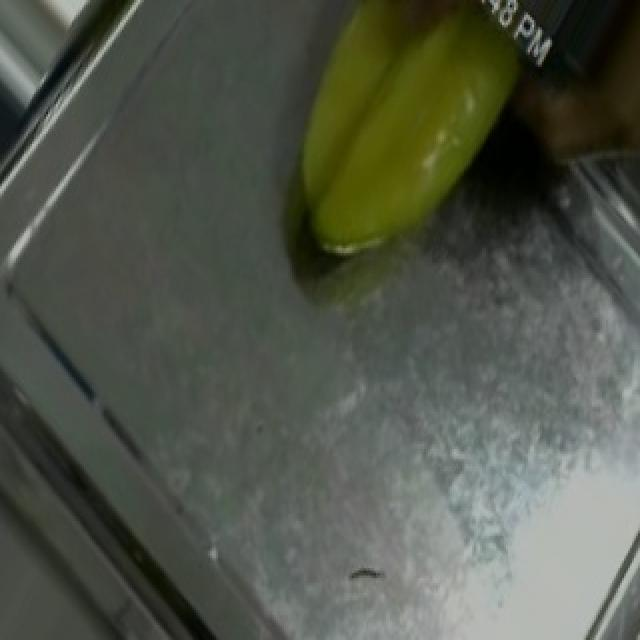fruit: (230, 0, 558, 298)
